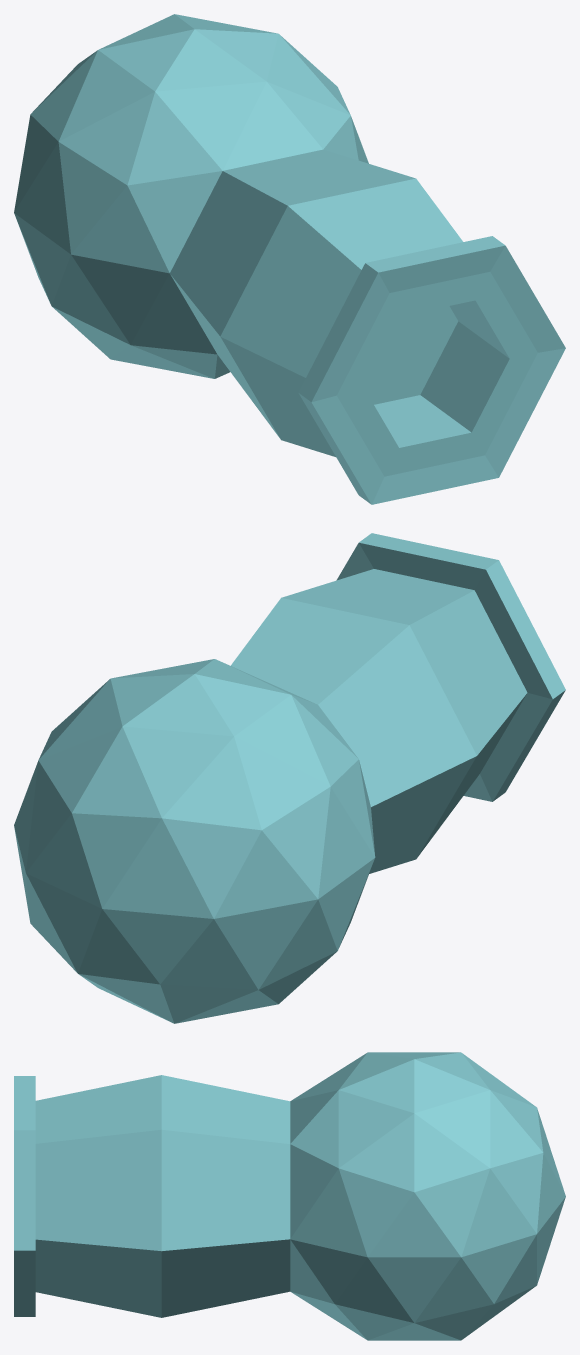
The model's file is Pistola.fbx.
3 renders of one model, top to bottom at view 1: azimuth 30°, elevation 25°; view 2: azimuth 150°, elevation 25°; view 3: azimuth 270°, elevation 25°, orthographic. The views are drawn at different scales.
Parts seen in each view (by area): view 1: Pistola; view 2: Pistola; view 3: Pistola.
Part boxes in pixels (x1,y1,x2,y2): Pistola: (14, 14, 565, 504); Pistola: (14, 533, 565, 1023); Pistola: (14, 1052, 565, 1340).
Bounding box in the file's own units: 132 × 138 × 252.
